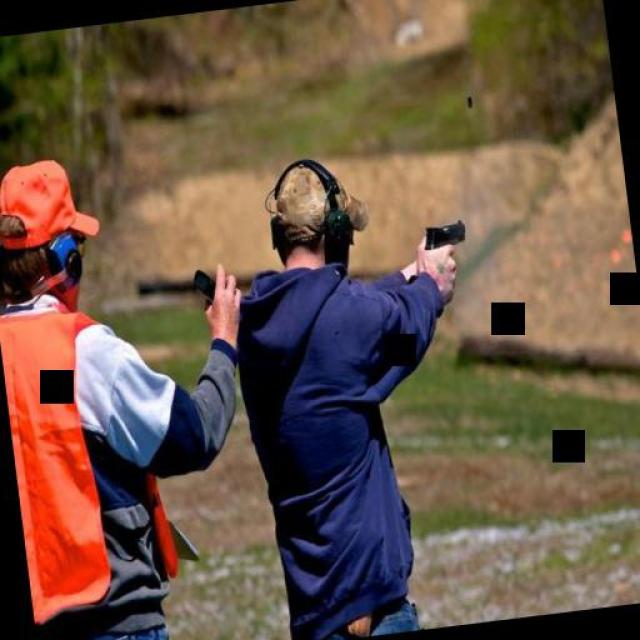gun: (416, 216, 469, 269)
